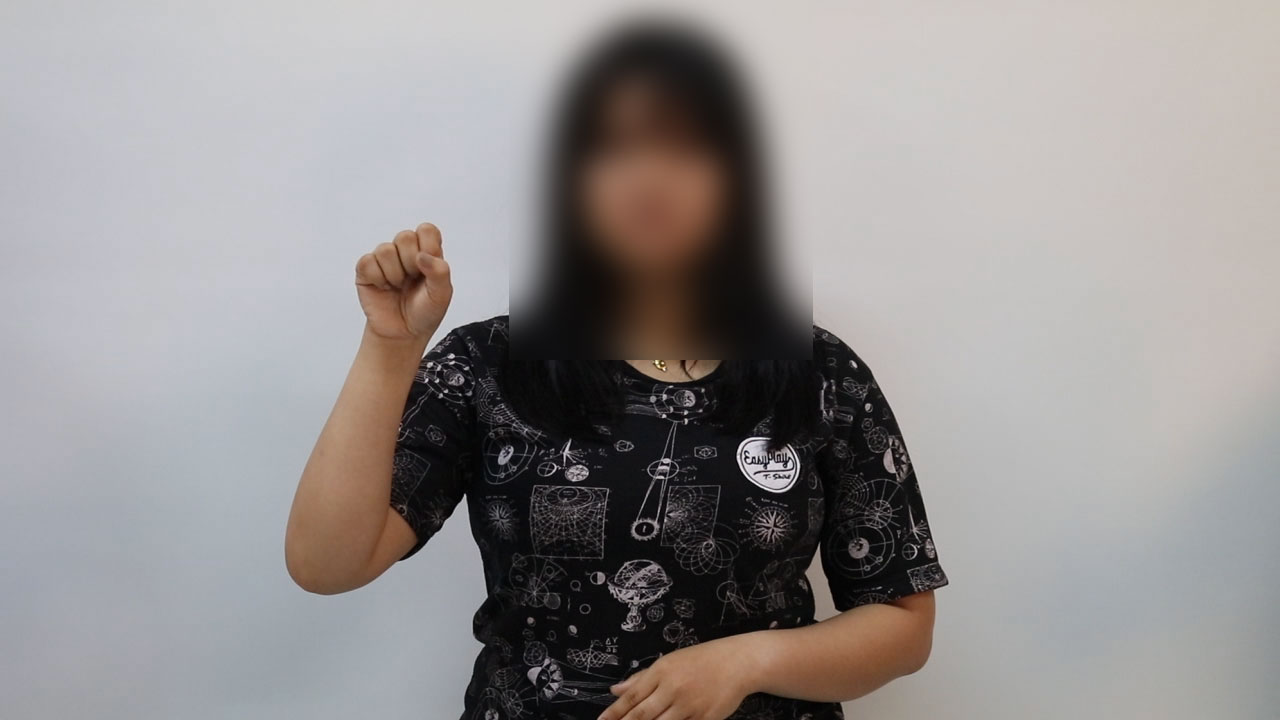sor: (338, 208, 461, 345)
